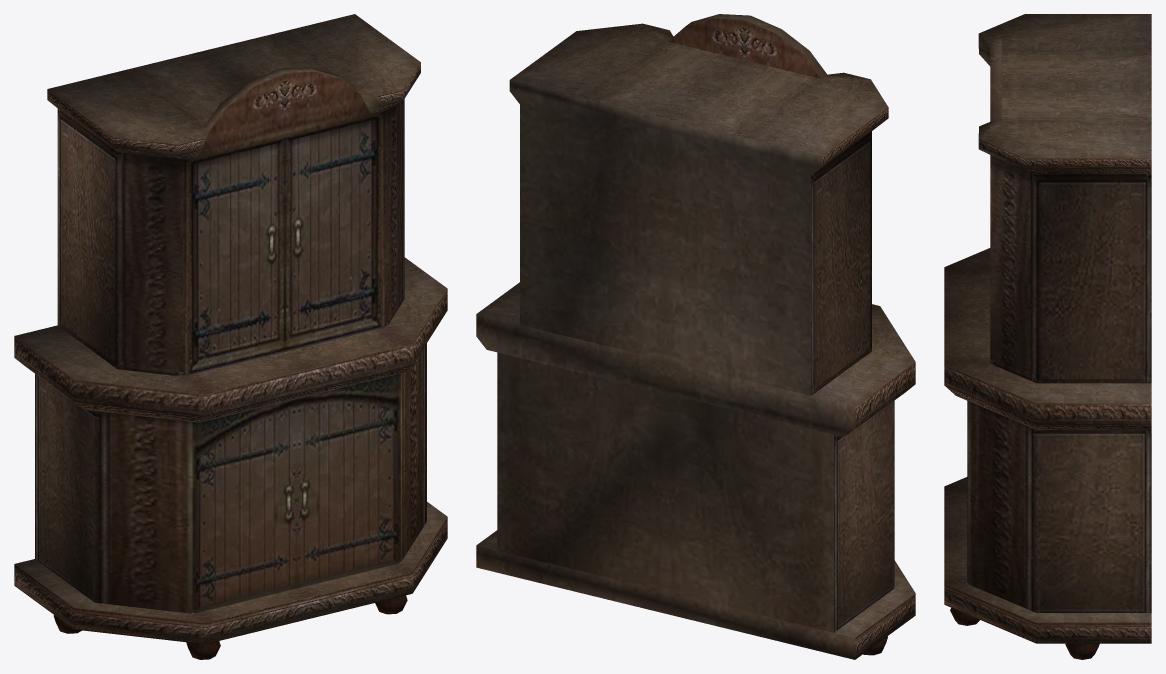
File: NW_CITY_CUPBOARD_RICH_01.glb
The picture shows the model from 3 angles, left to right: view 1: azimuth 30°, elevation 25°; view 2: azimuth 150°, elevation 25°; view 3: azimuth 270°, elevation 25°; orthographic projection. The views are drawn at different scales.
Parts seen in each view (by area): view 1: Mesh; view 2: Mesh; view 3: Mesh.
Part boxes in pixels (left/top/right/bottom): Mesh: left=14, top=14, right=447, bottom=659; Mesh: left=476, top=14, right=915, bottom=659; Mesh: left=944, top=14, right=1151, bottom=659.
Bounding box in the file's own units: 1.8 × 2.53 × 0.9.
1 material, 1 textured.
